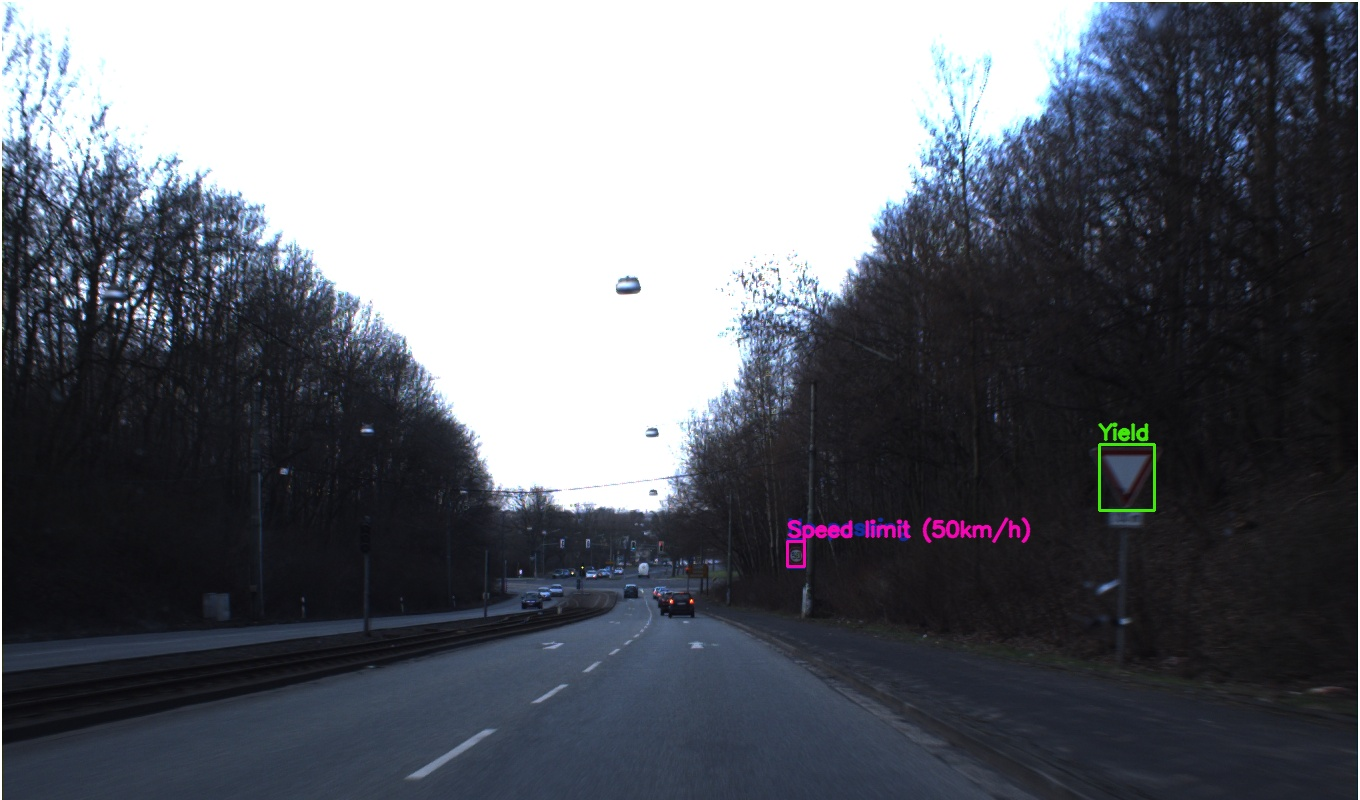Go straight or right: (681, 438, 699, 456)
Stop: (678, 412, 702, 435)
